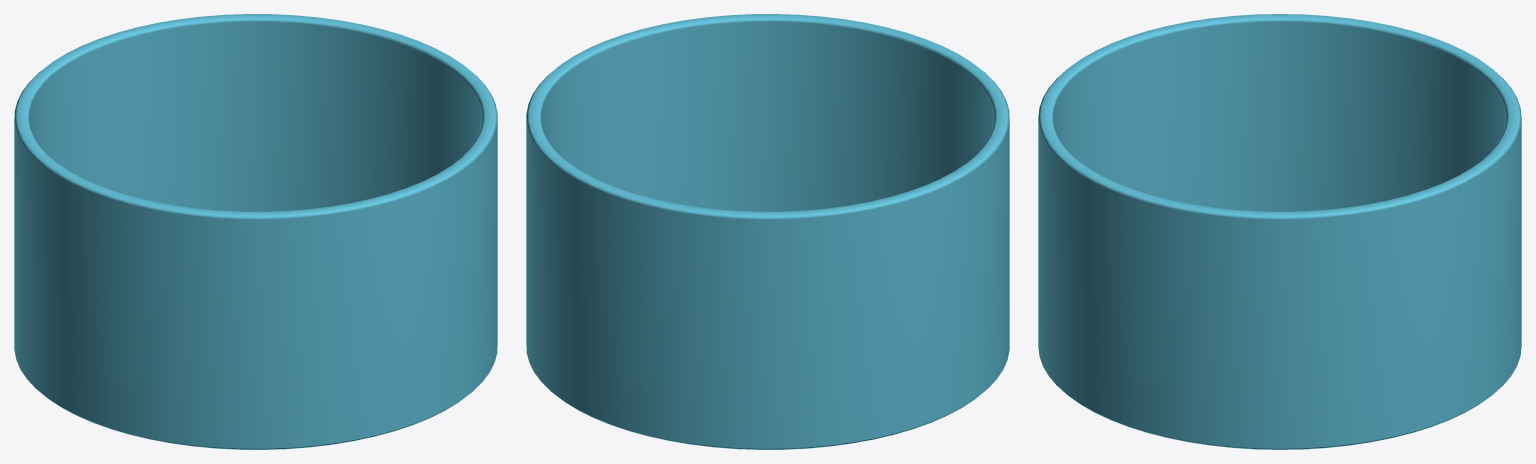
3 views of the same model, side by side, from view 1: azimuth 30°, elevation 25°; view 2: azimuth 150°, elevation 25°; view 3: azimuth 270°, elevation 25° (orthographic).
Parts seen in each view (by area): view 1: seal_body; view 2: seal_body; view 3: seal_body.
Boxes of the visible parts, <box> form: seal_body: <box>14,14,497,449</box>; seal_body: <box>526,14,1009,449</box>; seal_body: <box>1038,14,1521,449</box>.
Size of the model in its own units: 0.0475 by 0.0254 by 0.0475.
